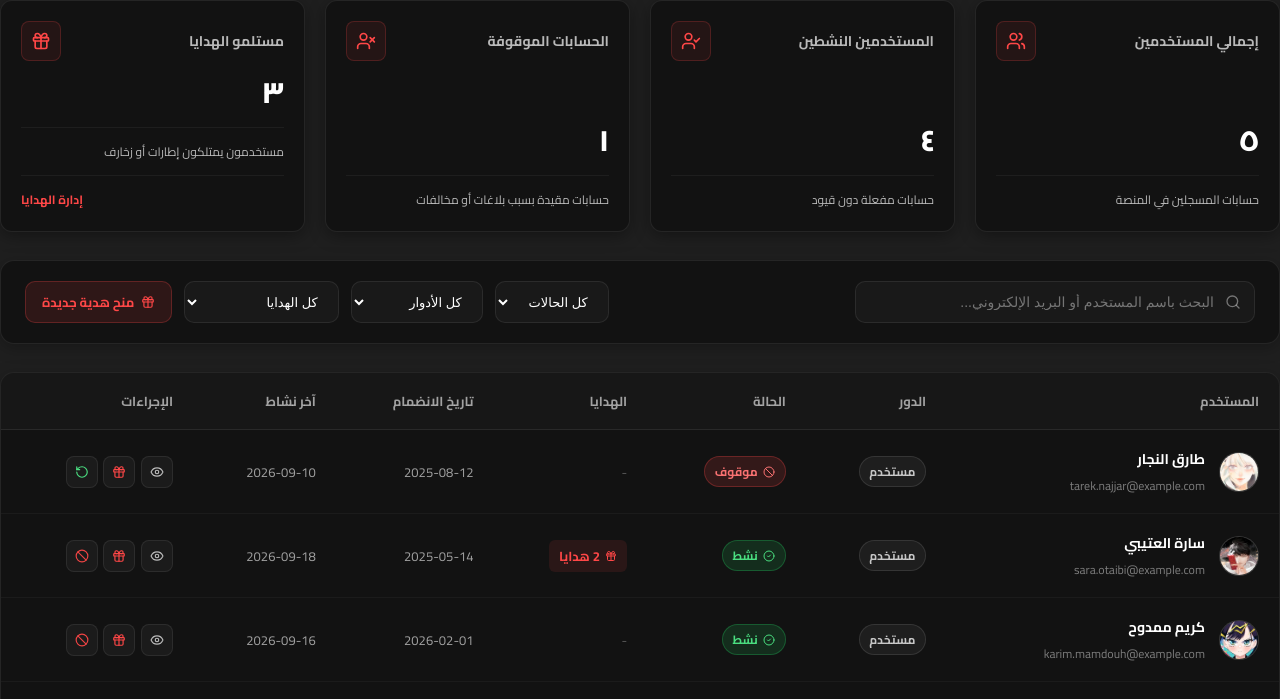
it: AdminUsers Component › filters users by status
"طارق النجار" is suspended in fixtures
Select "موقوف" in the dropdown named "تصفية حسب الحالة": coordinates (552, 302) [495,281,609,323]
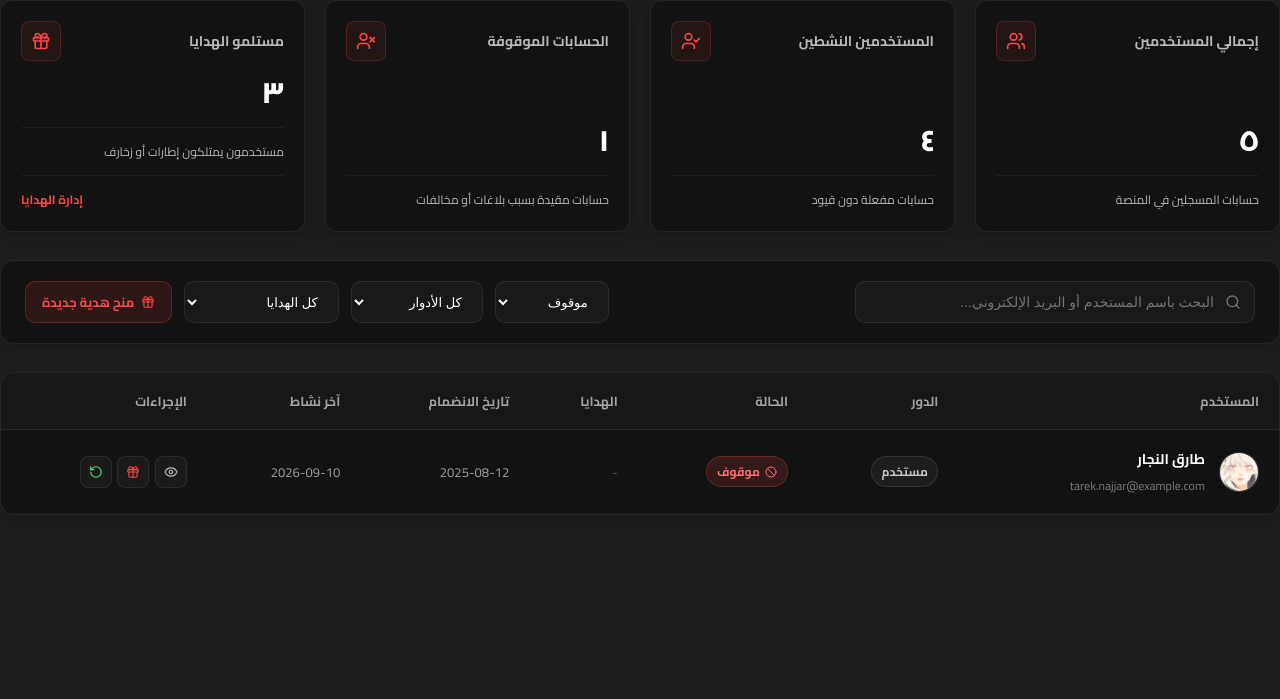
Expected: the link "طارق النجار" is shown, [1137,446,1205,472]
Now the link "سارة العتيبي" is gone
